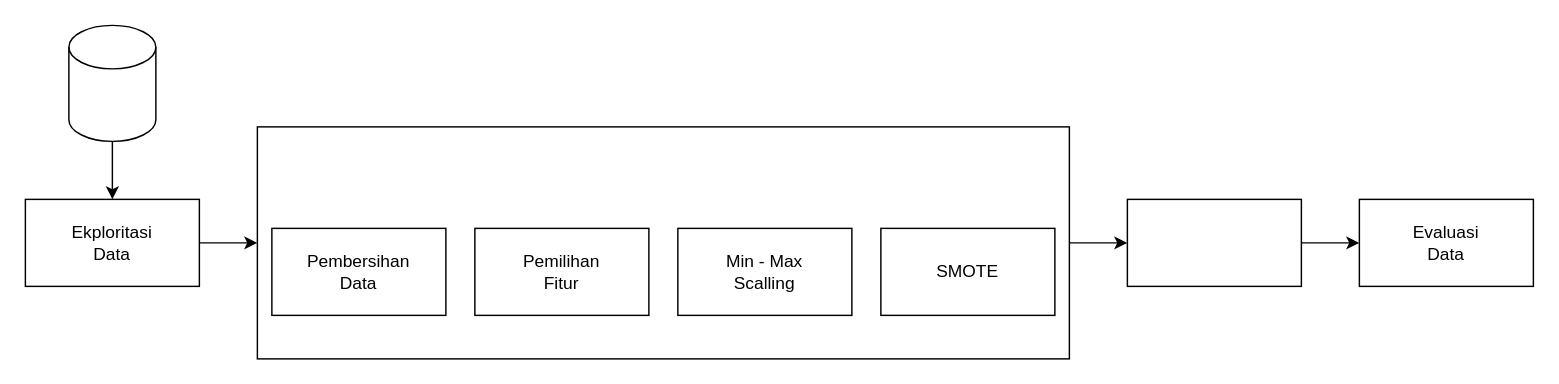
Image size: 1559x384. Some labels were removed from this diagram. The box of each missing label's shape, as (x1, y1, x2, y2) in pixels:
Data Collection: (67, 24, 156, 141)
Pemilihan Model dan Training Data: (1126, 198, 1301, 286)
PRA-PREPROCESSING DATA: (256, 125, 1069, 359)
